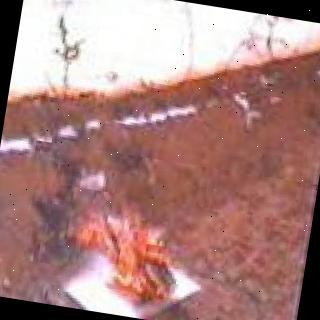fire: (59, 196, 192, 314)
